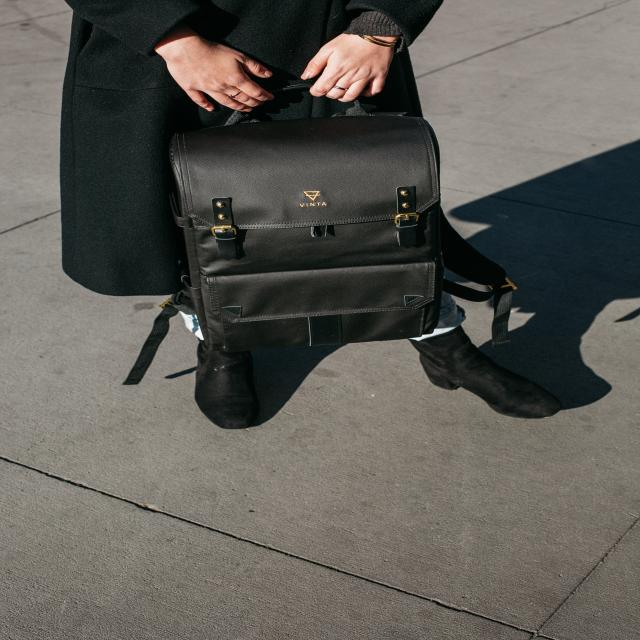backpack: (156, 78, 438, 350)
